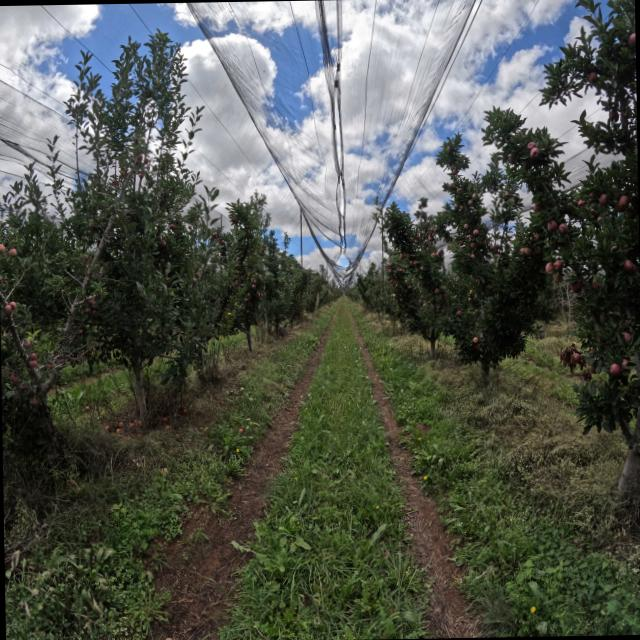-FireBlight-: (559, 343, 586, 373), (581, 370, 591, 378)
